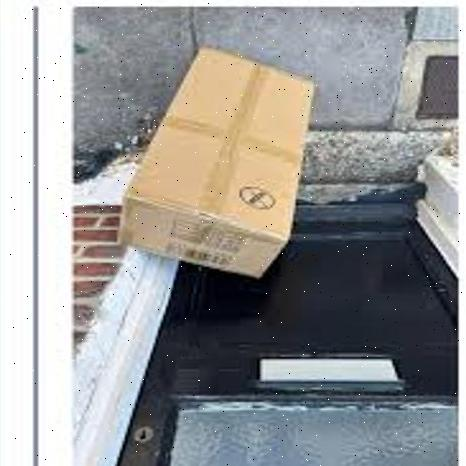Other: (115, 45, 321, 284)
